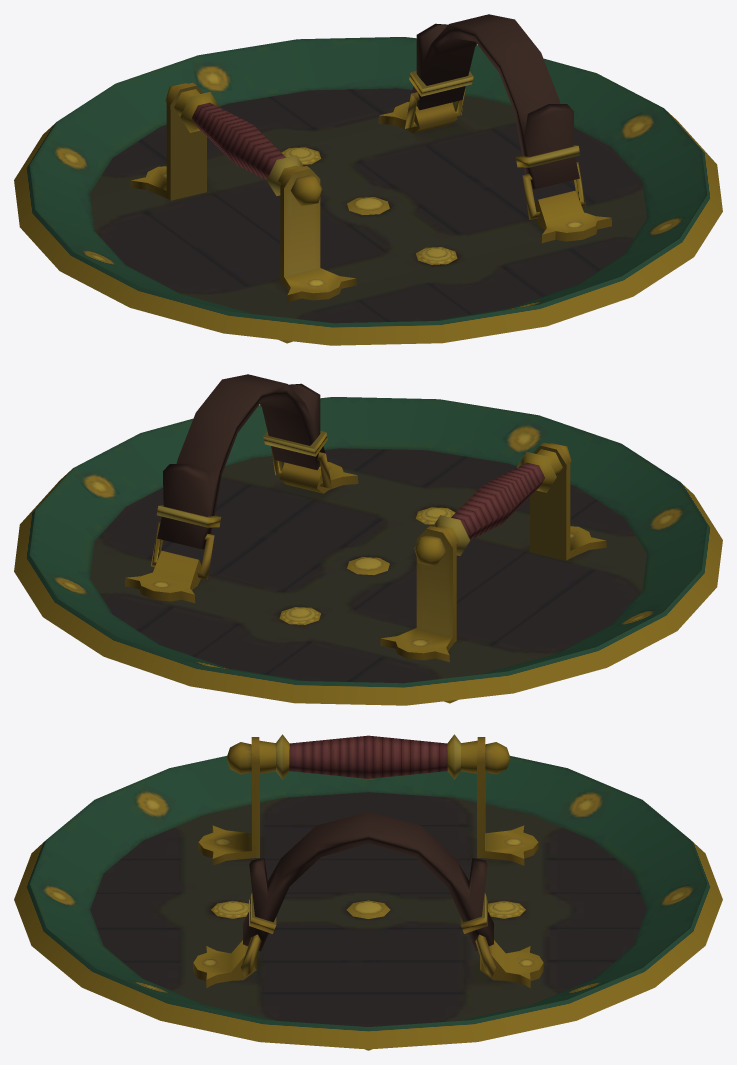
The model's file is Weapon_Shield_037.glb.
The picture shows the model from 3 angles, top to bottom: view 1: azimuth 30°, elevation 25°; view 2: azimuth 150°, elevation 25°; view 3: azimuth 270°, elevation 25°; orthographic projection.
Parts seen in each view (by area): view 1: Weapon_Shield_037; view 2: Weapon_Shield_037; view 3: Weapon_Shield_037.
Boxes of the visible parts, x1,y1,x2,y2 form: Weapon_Shield_037: (14,14,722,345); Weapon_Shield_037: (14,374,722,705); Weapon_Shield_037: (14,734,722,1050).
Bounding box in the file's own units: 0.6732 × 0.2464 × 0.6733.
1 material, 1 textured.
